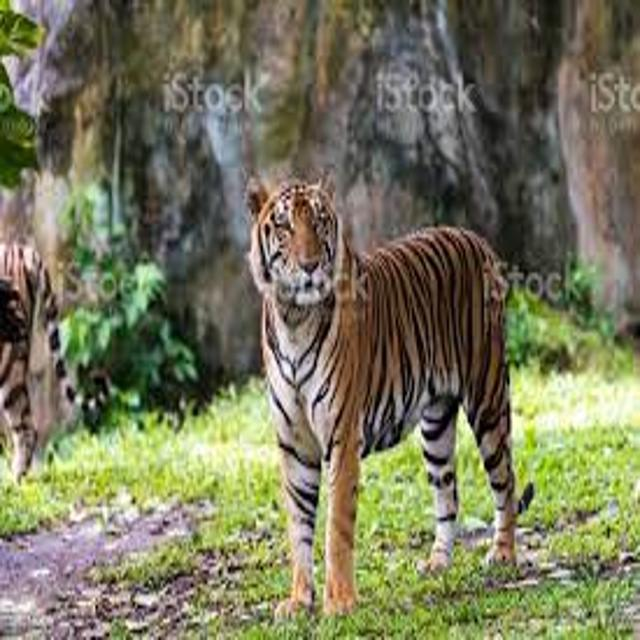tiger: (197, 134, 579, 639)
